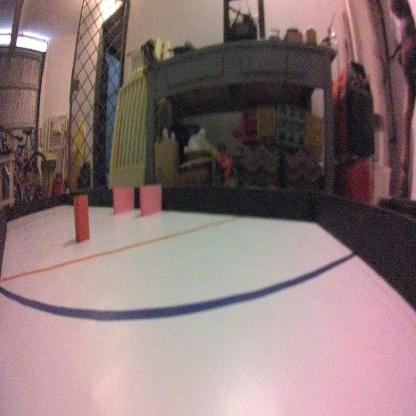magenta: (138, 182, 162, 221), (111, 182, 134, 219)
red: (71, 192, 91, 243)
